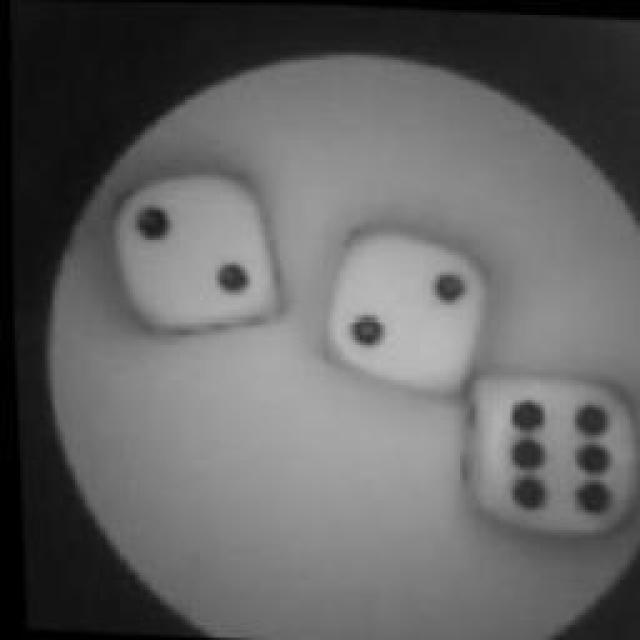dice_2: (99, 164, 294, 348), (312, 210, 486, 392)
dice_6: (452, 364, 640, 544)
